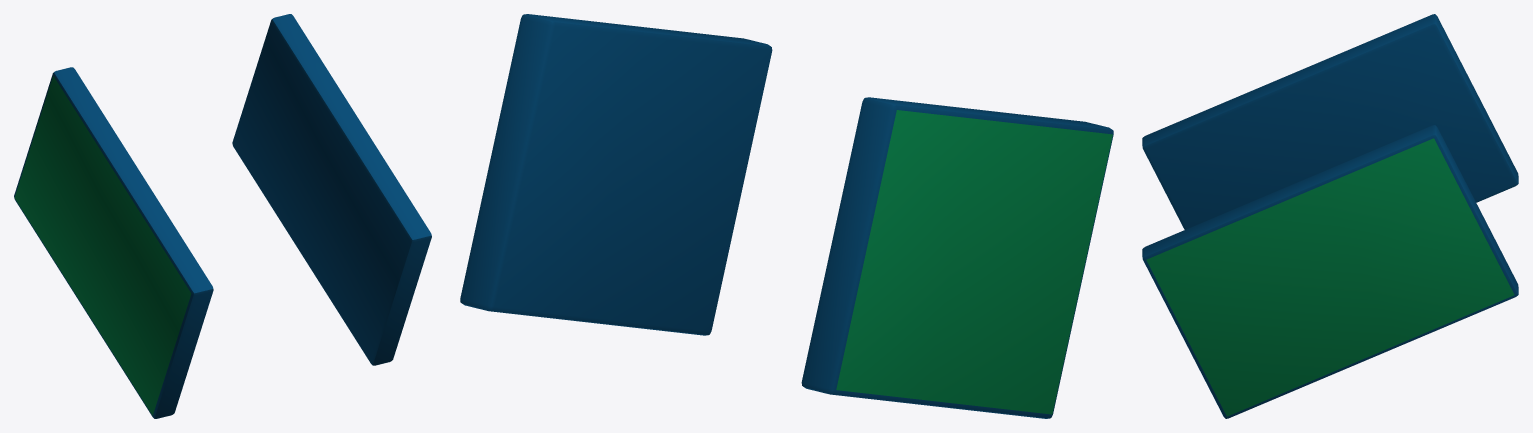
Rendered from partie 1 du bras.FBX.
3 renders of one model, left to right at view 1: azimuth 30°, elevation 25°; view 2: azimuth 150°, elevation 25°; view 3: azimuth 270°, elevation 25°, orthographic. The views are drawn at different scales.
Visible parts, largest first — view 1: Bras mécanique partie 1; view 2: Bras mécanique partie 1; view 3: Bras mécanique partie 1.
Part boxes in pixels (<box>): Bras mécanique partie 1: <box>14,14,431,418</box>; Bras mécanique partie 1: <box>460,14,1113,418</box>; Bras mécanique partie 1: <box>1142,14,1518,418</box>.
Bounding box in the file's own units: 75.33 × 82.27 × 98.24.
